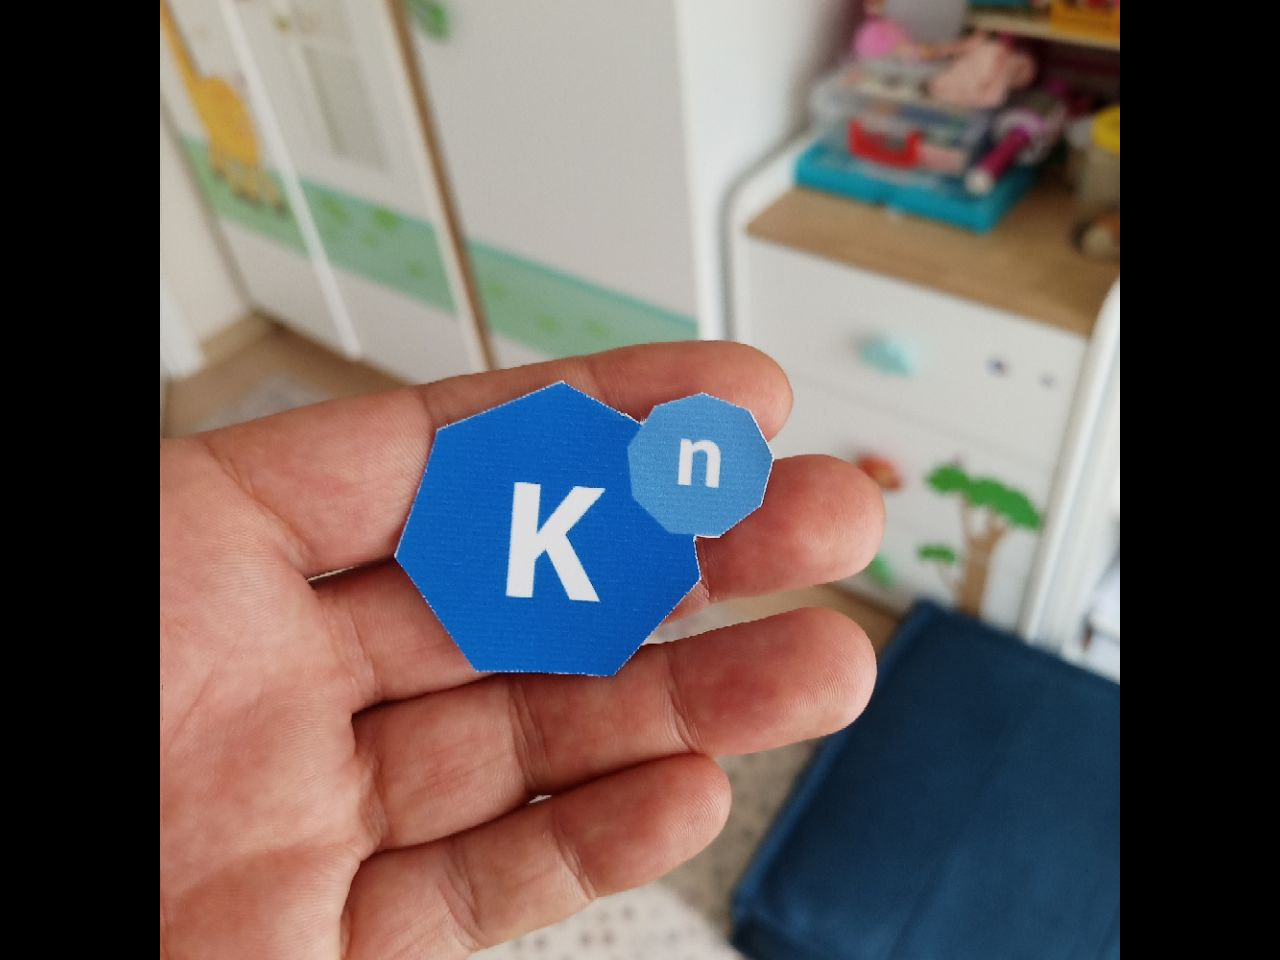knative: (389, 379, 773, 674)
